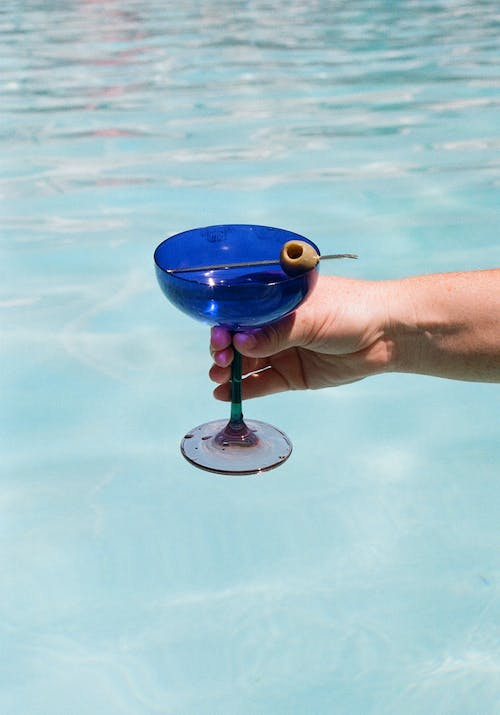alcohol: (151, 222, 322, 477)
